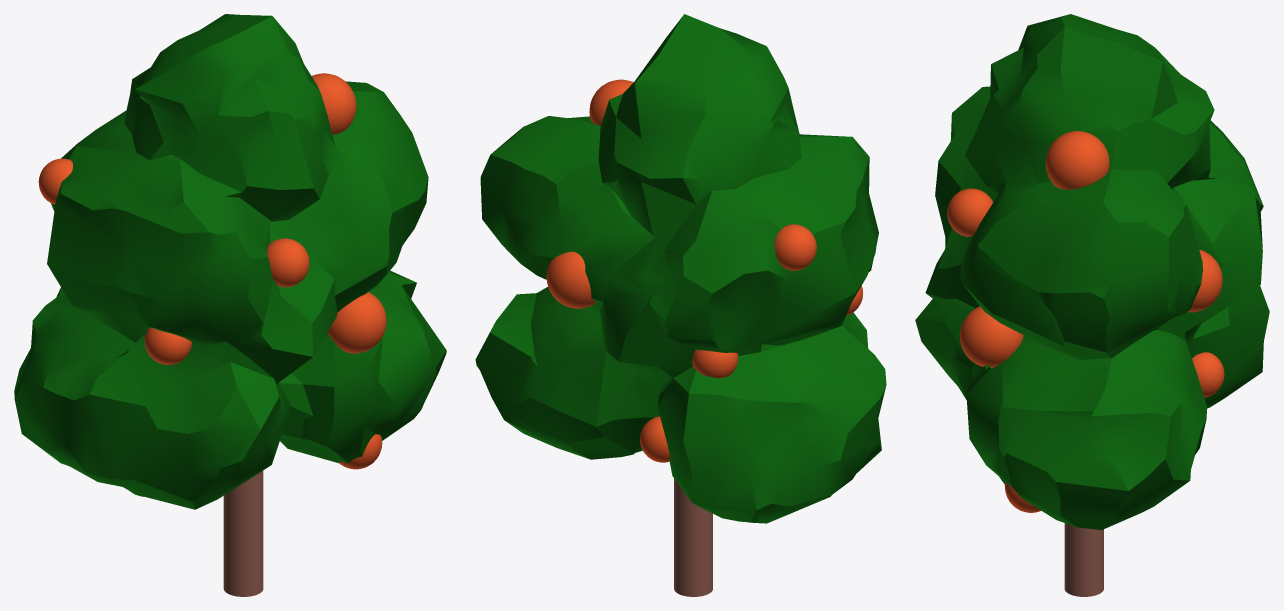
File: treefruit.fbx
3 renders of one model, left to right at view 1: azimuth 30°, elevation 25°; view 2: azimuth 150°, elevation 25°; view 3: azimuth 270°, elevation 25°, orthographic. The views are drawn at different scales.
Visible parts, largest first — view 1: Sphere; view 2: Sphere; view 3: Sphere.
Part boxes in pixels (bbox=[...]): Sphere: bbox=[14, 14, 446, 596]; Sphere: bbox=[475, 14, 886, 596]; Sphere: bbox=[915, 14, 1269, 596].
Size of the model in its own units: 1017 by 1419 by 798.
